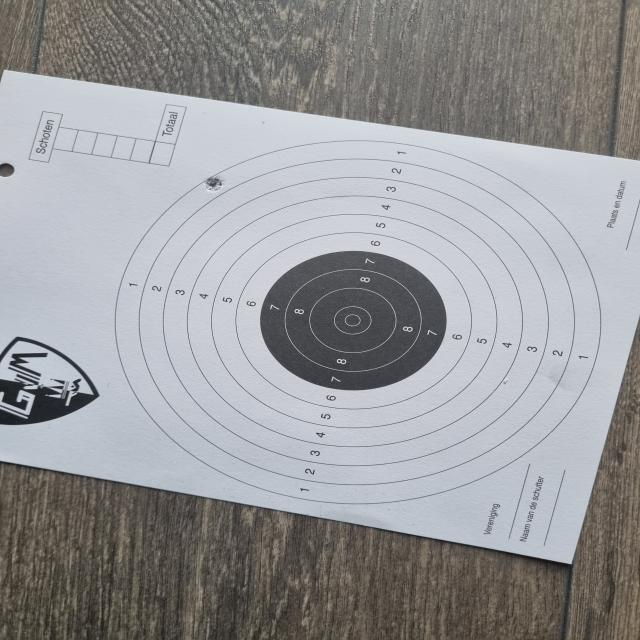1: (201, 176, 229, 194)
Target: (115, 137, 604, 504)
black_contour: (261, 252, 447, 391)
